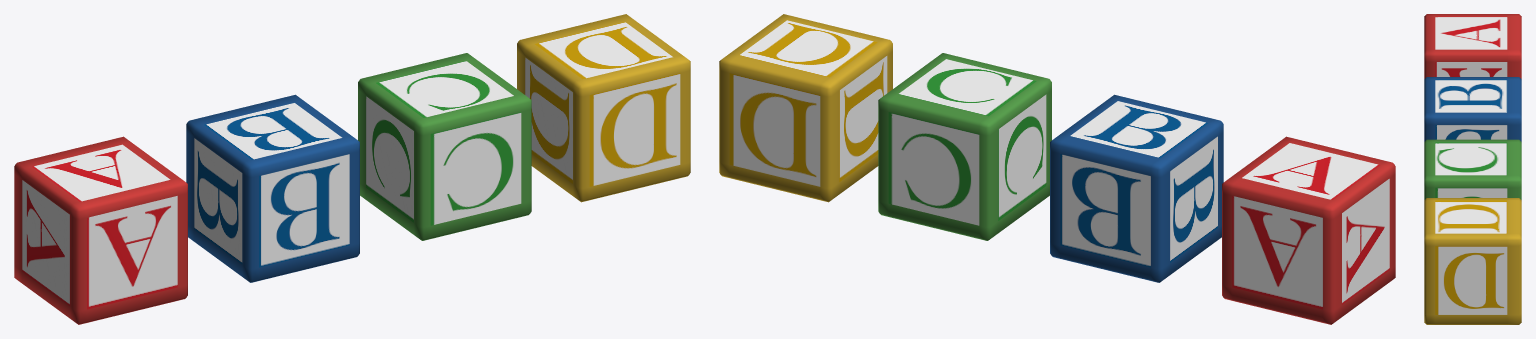
File: ABCblock.fbx
3 views of the same model, side by side, from view 1: azimuth 30°, elevation 25°; view 2: azimuth 150°, elevation 25°; view 3: azimuth 270°, elevation 25° (orthographic). The views are drawn at different scales.
Parts seen in each view (by area): view 1: A_block, B_block, C_block, D_block; view 2: A_block, B_block, C_block, D_block; view 3: D_block, A_block, B_block, C_block.
Boxes of the visible parts, x1,y1,x2,y2 form: A_block: [14, 136, 187, 324]; B_block: [186, 94, 359, 282]; C_block: [358, 53, 531, 240]; D_block: [517, 14, 690, 202]; A_block: [1222, 136, 1395, 324]; B_block: [1050, 94, 1223, 282]; C_block: [878, 53, 1051, 240]; D_block: [719, 14, 892, 202]; D_block: [1424, 198, 1521, 324]; A_block: [1424, 14, 1521, 78]; B_block: [1424, 77, 1521, 141]; C_block: [1424, 139, 1521, 199].
Size of the model in its own units: 1097 by 200 by 200.
